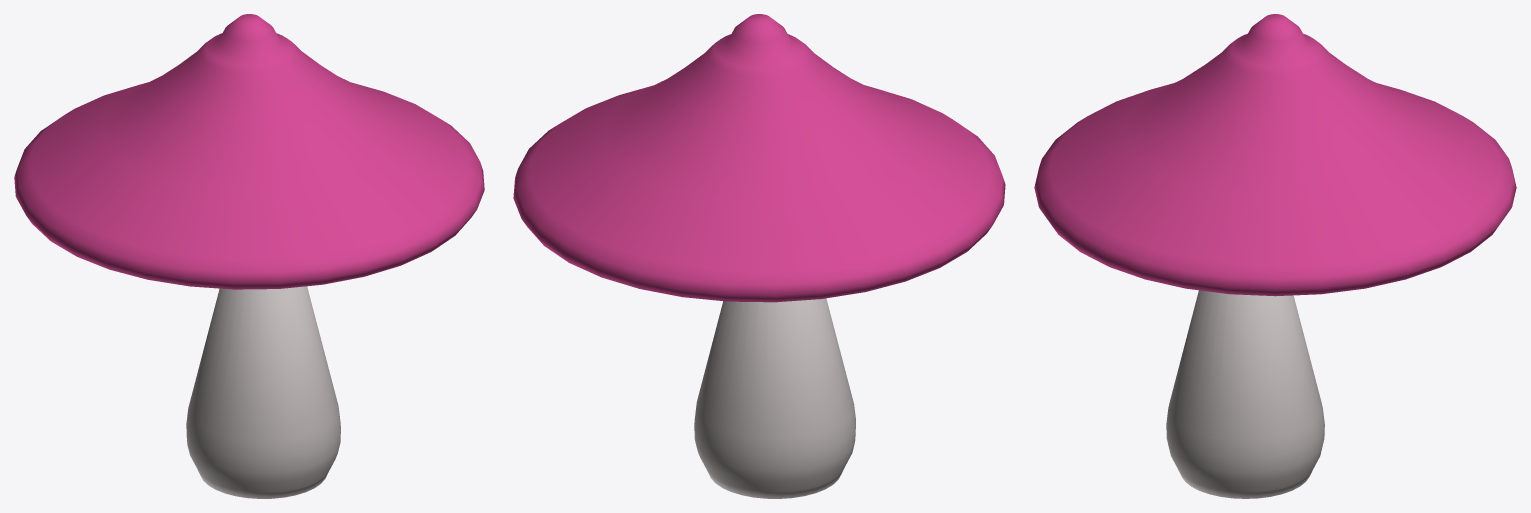
File: mushrooms5.fbx
3 renders of one model, left to right at view 1: azimuth 30°, elevation 25°; view 2: azimuth 150°, elevation 25°; view 3: azimuth 270°, elevation 25°, orthographic. The views are drawn at different scales.
Parts seen in each view (by area): view 1: Cylinder.001; view 2: Cylinder.001; view 3: Cylinder.001.
Boxes of the visible parts, x1=… form: Cylinder.001: x1=14, y1=14, x2=484, y2=498; Cylinder.001: x1=513, y1=14, x2=1005, y2=498; Cylinder.001: x1=1034, y1=14, x2=1516, y2=498.
Size of the model in its own units: 466 by 483 by 466.
